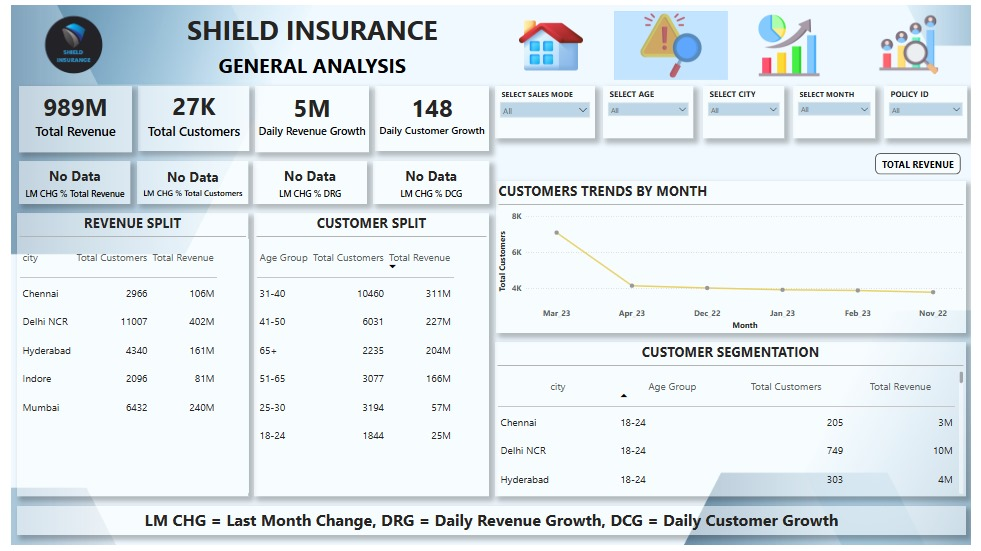

The dashboard page shown, as its layout file describes it:
{"tool":"powerbi","page":{"name":"GENERAL ANALYSIS","canvas":[1920,1080],"ordinal":1},"visuals":[{"type":"actionButton","title":"TOTAL REVENUE BUTTON","box":[1727.4,295.3,171.6,43.1],"z":0,"group":"g1"},{"type":"card","fields":{"Values":["DAX Measures.Total Customers"]},"box":[253.5,162.8,223.3,130.2],"z":1000},{"type":"lineChart","title":"CUSTOMERS TRENDS BY MONTH","fields":{"Y":["DAX Measures.Total Customers"],"Category":["dim_date.mmm_yy"]},"box":[969.8,351.9,939.5,303.9],"z":1000,"group":"g1"},{"type":"card","fields":{"Values":["DAX Measures.Total Revenue"]},"box":[16.3,162.8,225.6,132.6],"z":2000},{"type":"card","fields":{"Values":["DAX Measures.Daily Customer Growth Rate"]},"box":[727.9,162.8,227.9,130.2],"z":3000},{"type":"card","fields":{"Values":["DAX Measures.Daily Revenue Growth Rate (Avg)"]},"box":[488.4,162.8,227.9,132.6],"z":4000},{"type":"tableEx","title":"REVENUE SPLIT","fields":{"Values":["dim_customer.city","DAX Measures.Total Customers","DAX Measures.Total Revenue"]},"box":[11.6,416.3,462.8,567.4],"z":5000},{"type":"tableEx","title":"CUSTOMER SPLIT","fields":{"Values":["Age_Group_Table.Age Group","DAX Measures.Total Customers","DAX Measures.Total Revenue"]},"box":[486,416.3,469.8,567.4],"z":6000},{"type":"tableEx","title":"CUSTOMER SEGMENTATION","fields":{"Values":["dim_customer.city","Age_Group_Table.Age Group","DAX Measures.Total Customers","DAX Measures.Total Revenue"]},"box":[967.4,674.4,941.9,309.3],"z":7000},{"type":"slicer","fields":{"Values":["dim_date.mmm_yy"]},"box":[1564,162.8,165.1,104.7],"z":8000},{"type":"slicer","fields":{"Values":["fact_premiums.sales_mode"]},"box":[967.4,162.8,200,104.7],"z":9000},{"type":"slicer","fields":{"Values":["dim_customer.Age Group"]},"box":[1184.9,162.8,181.4,104.7],"z":10000},{"type":"slicer","fields":{"Values":["dim_customer.city"]},"box":[1383.7,162.8,162.8,104.7],"z":11000},{"type":"slicer","fields":{"Values":["dim_policies.policy_id"]},"box":[1746.5,162.8,167.4,104.7],"z":12000},{"type":"group","id":"g1","title":"CUSTOMER VISUAL","box":[969.8,295.3,939.5,360.5],"z":14000},{"type":"image","box":[1205,12.5,227.5,137.5],"z":15000},{"type":"image","box":[1682.5,12.5,227.5,135],"z":16000},{"type":"image","box":[965,12.5,227.5,137.5],"z":17000},{"type":"shape","box":[1205,12.5,227.5,137.5],"z":18000},{"type":"image","box":[12.5,12.5,227.5,135],"z":19000},{"type":"shape","title":"SHIELD INSURANCE","box":[250,12.5,705,135],"z":20000},{"type":"card","fields":{"Values":["DAX Measures.LM CHG % Total Revenue"]},"box":[16.3,311.6,223.3,86],"z":21000},{"type":"card","fields":{"Values":["DAX Measures.LM CHG % Total Customers"]},"box":[251.2,311.6,223.3,86],"z":22000},{"type":"card","fields":{"Values":["DAX Measures.LM CHG % DRG"]},"box":[483.7,311.6,227.9,86],"z":23000},{"type":"card","fields":{"Values":["DAX Measures.LM CHG % DCG"]},"box":[723.3,311.6,232.6,86],"z":24000},{"type":"textbox","box":[11.6,1002.3,1897.7,58.1],"z":25000},{"type":"image","box":[1442.5,12.5,227.5,137.5],"z":26000}]}

Visuals, with their boxes in screenshot pixels (x1, y1, x2, y2), scaled from the page's 1920x1080 canvas onto the 981x551 screenshot:
"TOTAL REVENUE BUTTON" actionButton: [883, 151, 970, 173]
card - DAX Measures.Total Customers: [130, 83, 244, 149]
"CUSTOMERS TRENDS BY MONTH" lineChart: [496, 180, 976, 335]
card - DAX Measures.Total Revenue: [8, 83, 124, 151]
card - DAX Measures.Daily Customer Growth Rate: [372, 83, 488, 149]
card - DAX Measures.Daily Revenue Growth Rate (Avg): [250, 83, 366, 151]
"REVENUE SPLIT" tableEx: [6, 212, 242, 502]
"CUSTOMER SPLIT" tableEx: [248, 212, 488, 502]
"CUSTOMER SEGMENTATION" tableEx: [494, 344, 976, 502]
slicer - dim_date.mmm_yy: [799, 83, 883, 136]
slicer - fact_premiums.sales_mode: [494, 83, 596, 136]
slicer - dim_customer.Age Group: [605, 83, 698, 136]
slicer - dim_customer.city: [707, 83, 790, 136]
slicer - dim_policies.policy_id: [892, 83, 978, 136]
"CUSTOMER VISUAL" group: [496, 151, 976, 335]
image: [616, 6, 732, 77]
image: [860, 6, 976, 75]
image: [493, 6, 609, 77]
shape: [616, 6, 732, 77]
image: [6, 6, 123, 75]
"SHIELD INSURANCE" shape: [128, 6, 488, 75]
card - DAX Measures.LM CHG % Total Revenue: [8, 159, 122, 203]
card - DAX Measures.LM CHG % Total Customers: [128, 159, 242, 203]
card - DAX Measures.LM CHG % DRG: [247, 159, 364, 203]
card - DAX Measures.LM CHG % DCG: [370, 159, 488, 203]
textbox: [6, 511, 976, 541]
image: [737, 6, 853, 77]
